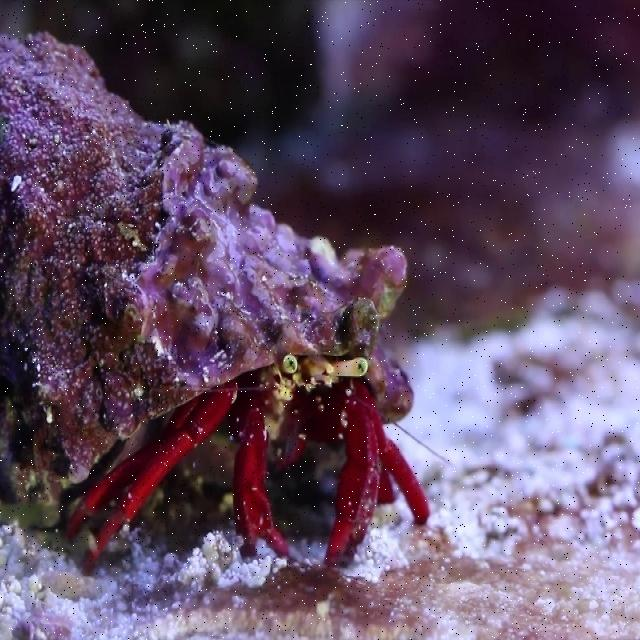fish: (2, 30, 423, 564)
